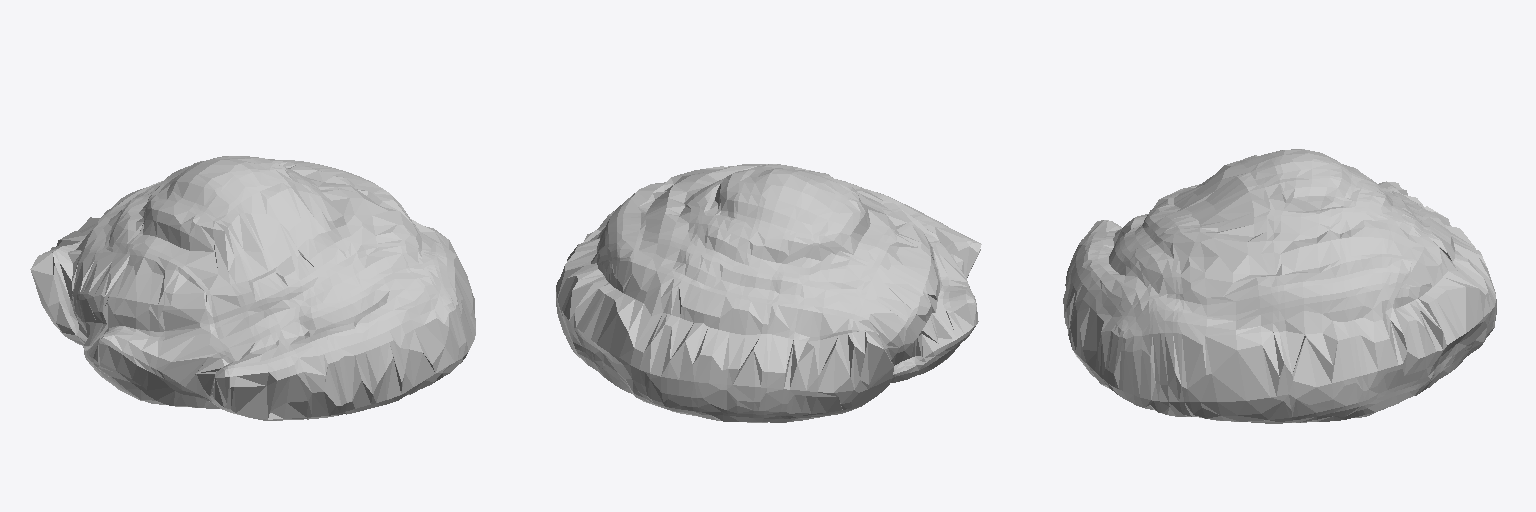
The model's file is cinnamon5.obj.
3 renders of one model, left to right at view 1: azimuth 30°, elevation 25°; view 2: azimuth 150°, elevation 25°; view 3: azimuth 270°, elevation 25°, orthographic.
Visible parts, largest first — view 1: pasted__pasted__pasted__polySurface4176 croissant5k31:croissant5; view 2: pasted__pasted__pasted__polySurface4176 croissant5k31:croissant5; view 3: pasted__pasted__pasted__polySurface4176 croissant5k31:croissant5.
Part boxes in pixels (x1,y1,x2,y2): pasted__pasted__pasted__polySurface4176 croissant5k31:croissant5: (30, 156, 475, 420); pasted__pasted__pasted__polySurface4176 croissant5k31:croissant5: (556, 164, 981, 422); pasted__pasted__pasted__polySurface4176 croissant5k31:croissant5: (1063, 149, 1496, 423).
Bounding box in the file's own units: 0.173 × 0.0806 × 0.1764.